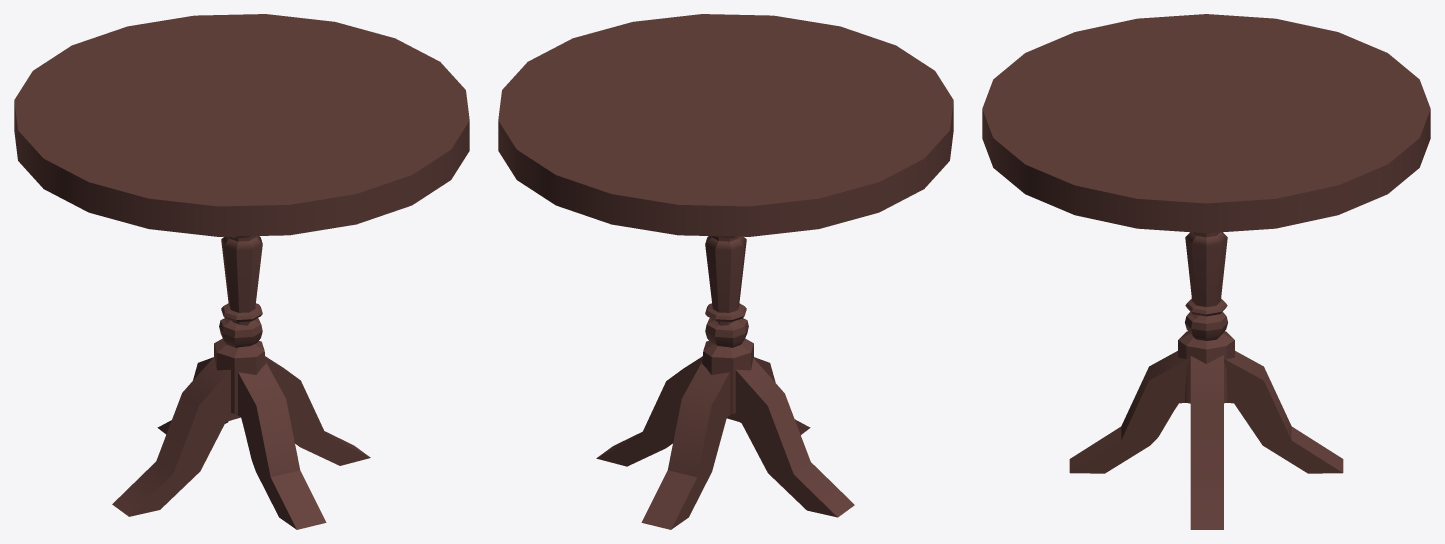
The model's file is table.fbx.
The picture shows the model from 3 angles, left to right: view 1: azimuth 30°, elevation 25°; view 2: azimuth 150°, elevation 25°; view 3: azimuth 270°, elevation 25°; orthographic projection. The views are drawn at different scales.
Parts seen in each view (by area): view 1: polySurface14; view 2: polySurface14; view 3: polySurface14.
Part boxes in pixels (x1,y1,x2,y2): polySurface14: (14,14,469,529); polySurface14: (498,14,953,529); polySurface14: (982,14,1430,529).
Size of the model in its own units: 99.85 by 89.45 by 99.85.
